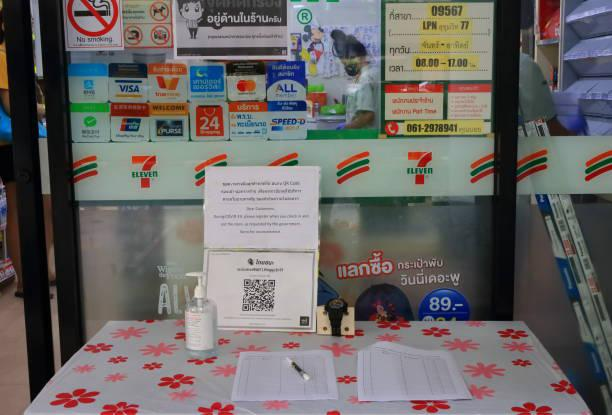Finder pattern: (241, 277, 253, 289), (241, 301, 251, 313), (267, 279, 278, 289)
